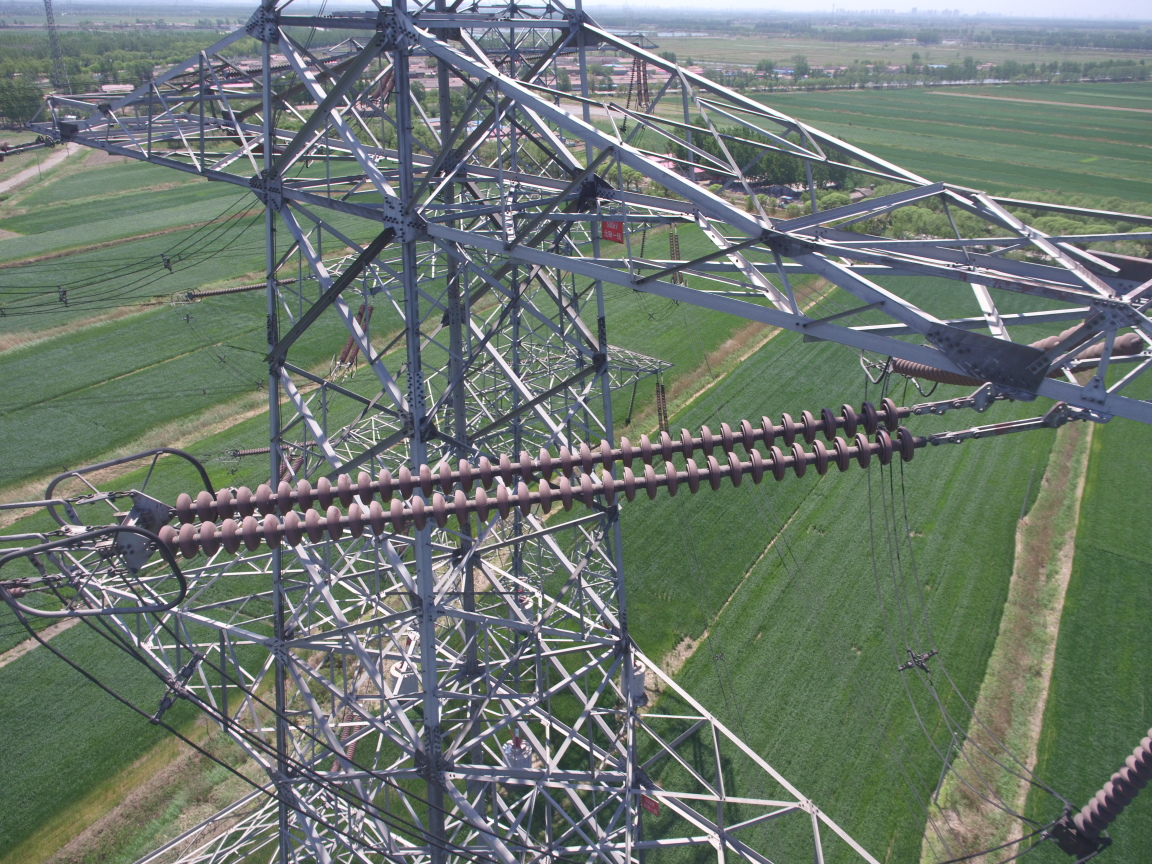insulator: (144, 391, 959, 566)
